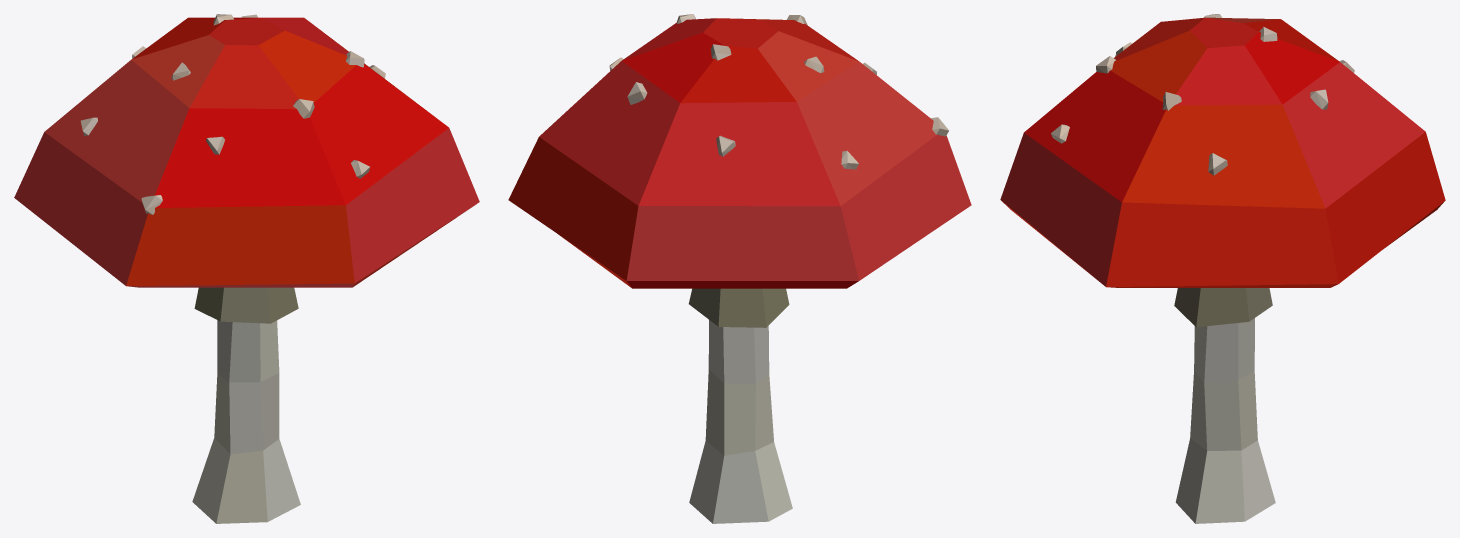
Rendered from RedToadstool.glb.
3 views of the same model, side by side, from view 1: azimuth 30°, elevation 25°; view 2: azimuth 150°, elevation 25°; view 3: azimuth 270°, elevation 25° (orthographic).
Parts seen in each view (by area): view 1: RedToadstool; view 2: RedToadstool; view 3: RedToadstool.
Part boxes in pixels (left/top/right/bottom): RedToadstool: left=14, top=14, right=479, bottom=523; RedToadstool: left=508, top=14, right=971, bottom=523; RedToadstool: left=1000, top=14, right=1445, bottom=523.
Size of the model in its own units: 0.1524 by 0.1977 by 0.1684.
